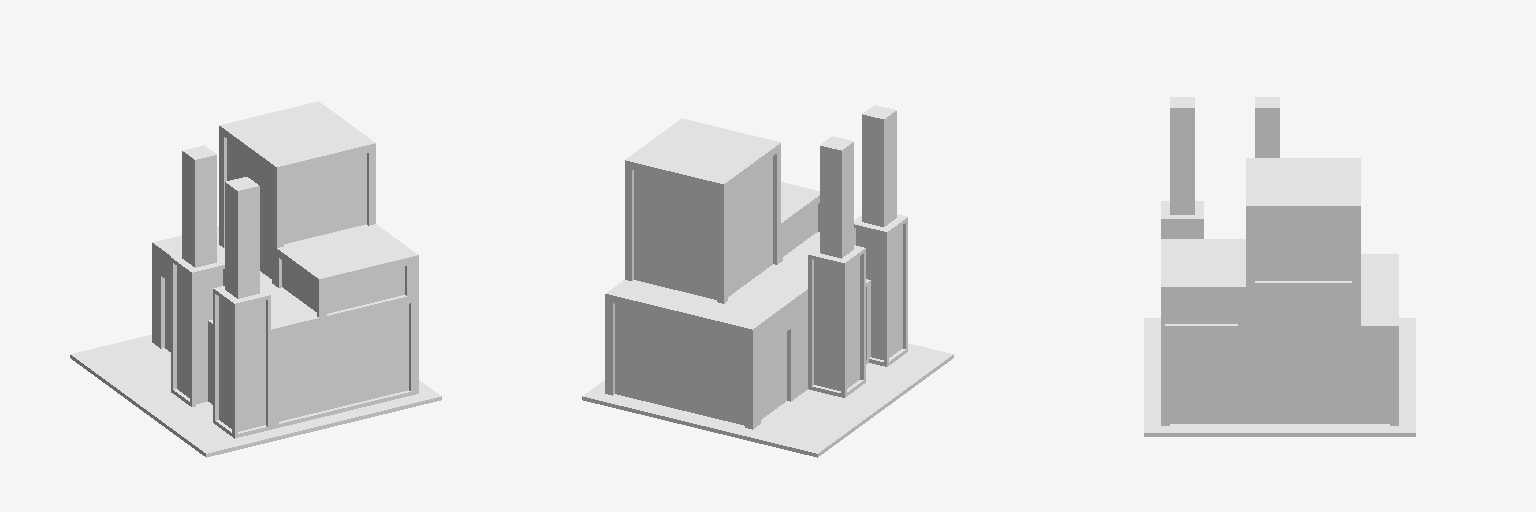
Rendered from industrial-2.obj.
3 views of the same model, side by side, from view 1: azimuth 30°, elevation 25°; view 2: azimuth 150°, elevation 25°; view 3: azimuth 270°, elevation 25° (orthographic).
Parts seen in each view (by area): view 1: object 1; view 2: object 1; view 3: object 1.
Part boxes in pixels (bbox=[...]): object 1: bbox=[70, 101, 441, 457]; object 1: bbox=[582, 105, 953, 457]; object 1: bbox=[1144, 97, 1415, 436].
Bounding box in the file's own units: 6.4 × 6.4 × 6.4.